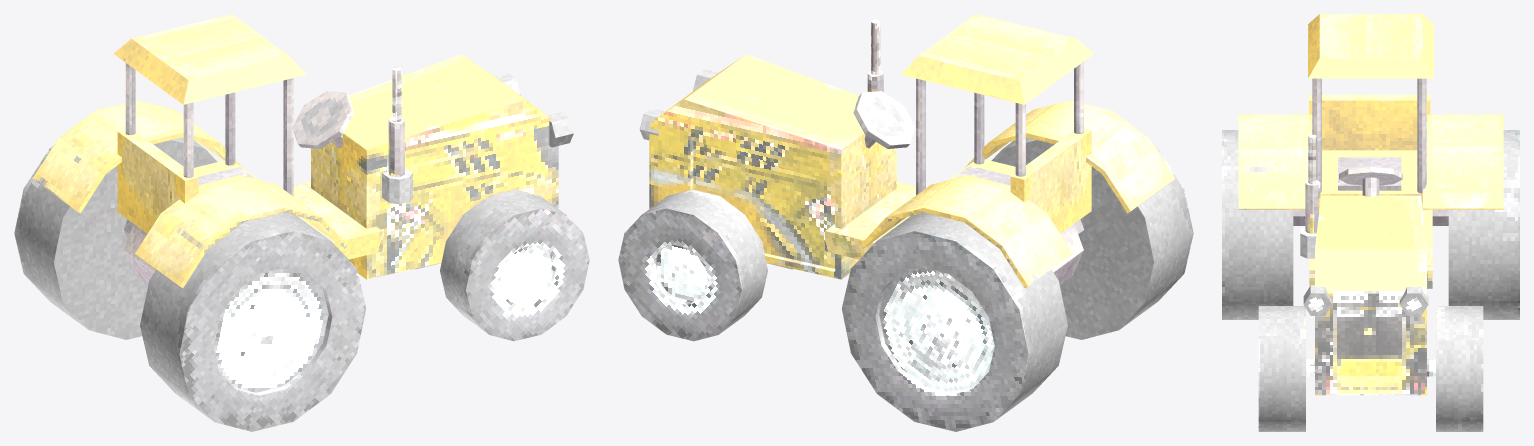
File: Tractor.glb
The picture shows the model from 3 angles, left to right: view 1: azimuth 30°, elevation 25°; view 2: azimuth 150°, elevation 25°; view 3: azimuth 270°, elevation 25°; orthographic projection. The views are drawn at different scales.
Visible parts, largest first — view 1: Tractor, Tractor.001, Tractor.002; view 2: Tractor, Tractor.001, Tractor.002; view 3: Tractor, Tractor.001, Tractor.002.
Part boxes in pixels (left/top/right/bottom): Tractor: left=32, top=14, right=573, bottom=287; Tractor.001: left=14, top=137, right=366, bottom=431; Tractor.002: left=415, top=189, right=589, bottom=341; Tractor: left=639, top=14, right=1175, bottom=287; Tractor.001: left=841, top=137, right=1193, bottom=431; Tractor.002: left=618, top=189, right=792, bottom=341; Tractor: left=1238, top=14, right=1503, bottom=395; Tractor.001: left=1222, top=130, right=1519, bottom=319; Tractor.002: left=1258, top=306, right=1483, bottom=431.
Bounding box in the file's own units: 7.11 × 4.86 × 4.62.
